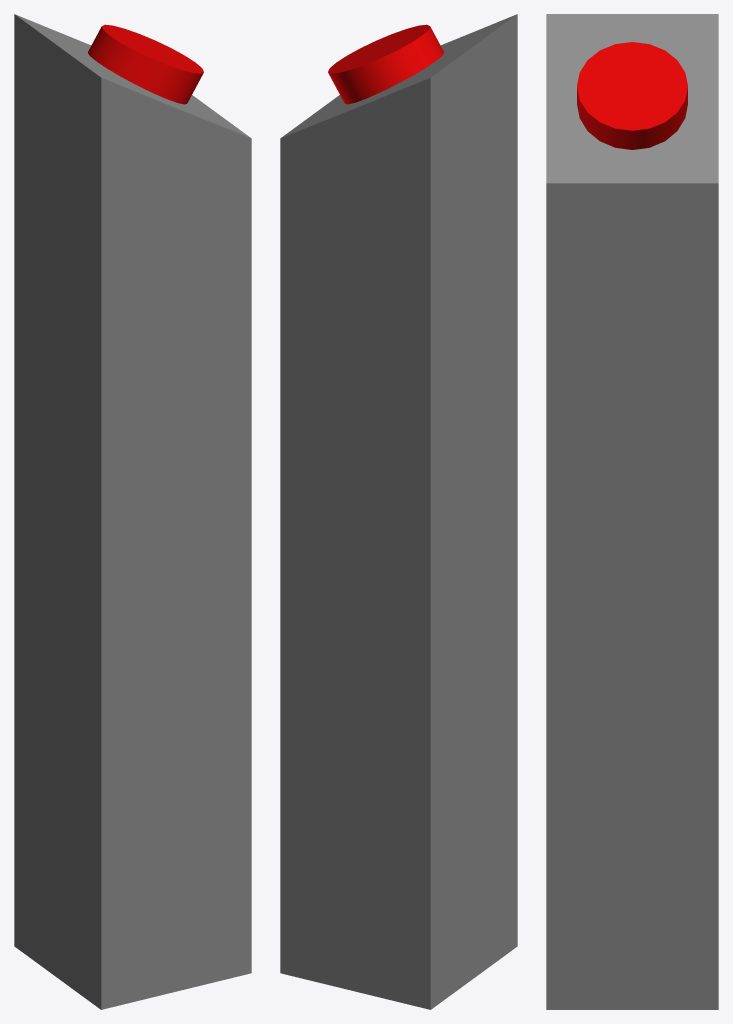
File: ButtonPost.fbx
The picture shows the model from 3 angles, left to right: view 1: azimuth 30°, elevation 25°; view 2: azimuth 150°, elevation 25°; view 3: azimuth 270°, elevation 25°; orthographic projection.
Parts seen in each view (by area): view 1: pCube1, pCylinder1; view 2: pCube1, pCylinder1; view 3: pCube1, pCylinder1.
Part boxes in pixels (left/top/right/bottom): pCube1: left=14, top=14, right=251, bottom=1009; pCylinder1: left=88, top=24, right=203, bottom=104; pCube1: left=280, top=14, right=517, bottom=1009; pCylinder1: left=328, top=24, right=443, bottom=104; pCube1: left=546, top=14, right=718, bottom=1009; pCylinder1: left=577, top=42, right=687, bottom=149.
Size of the model in its own units: 0.6 by 3.55 by 0.6.
